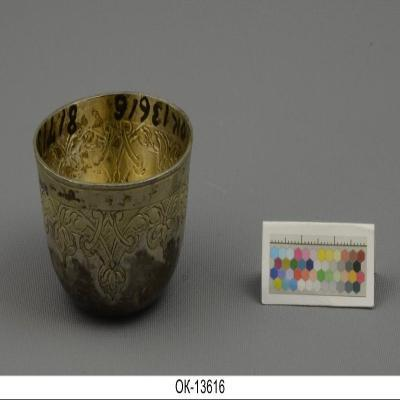dpi: (32, 93, 194, 321)
